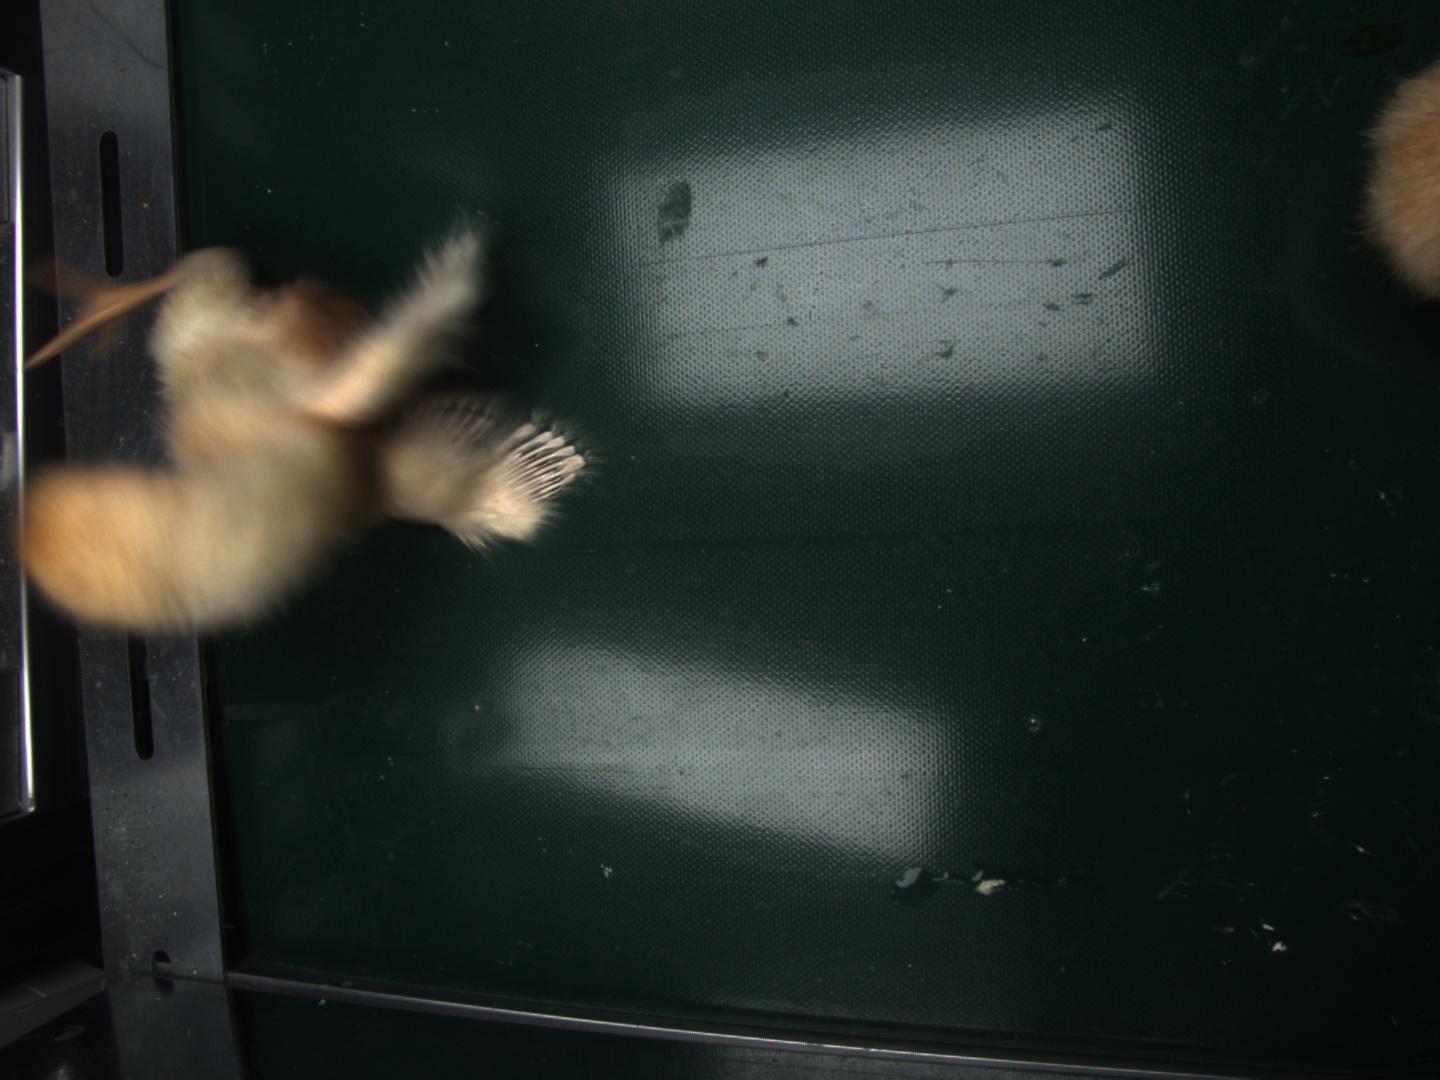female: (502, 421, 585, 501)
